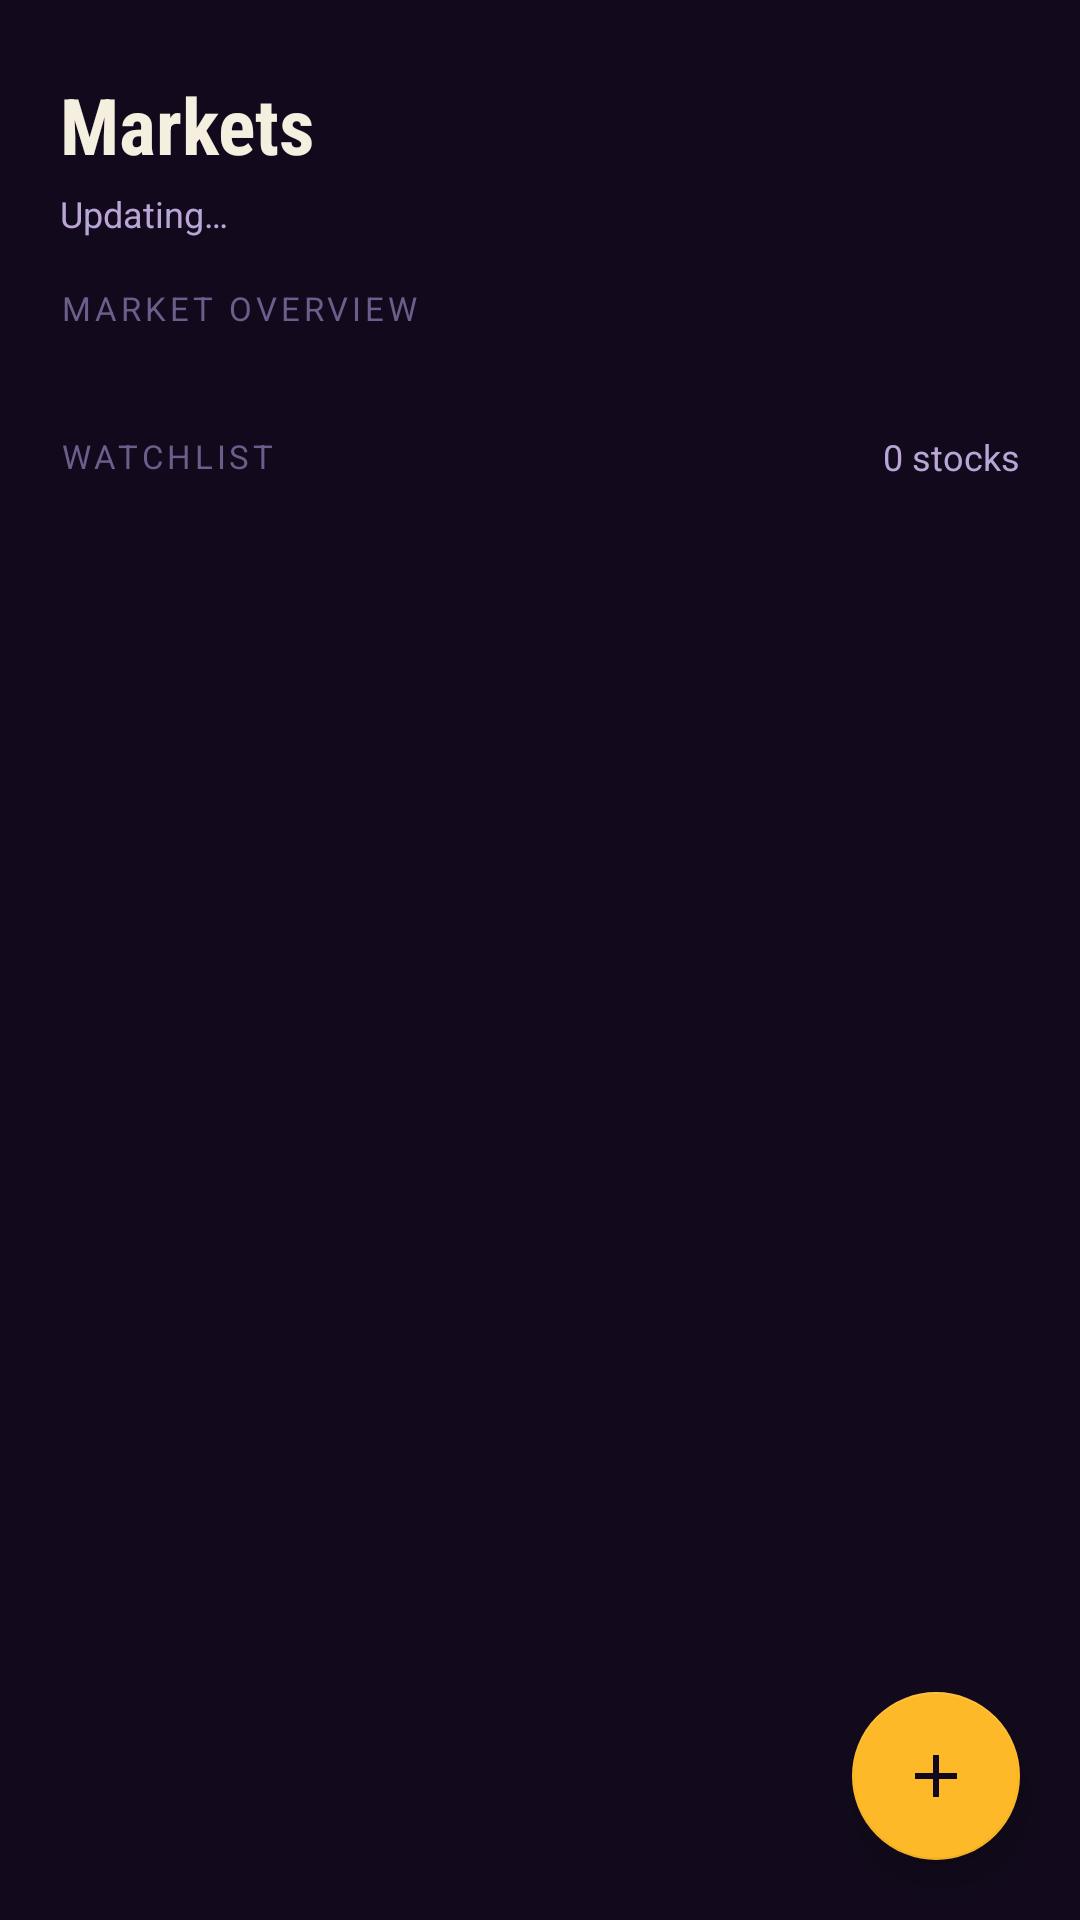

Icon bounding boxes for this 1080w x 1920h phone screenshot, format (x1, y1, x2, y2):
Add stock: (852, 1692, 1020, 1860)
